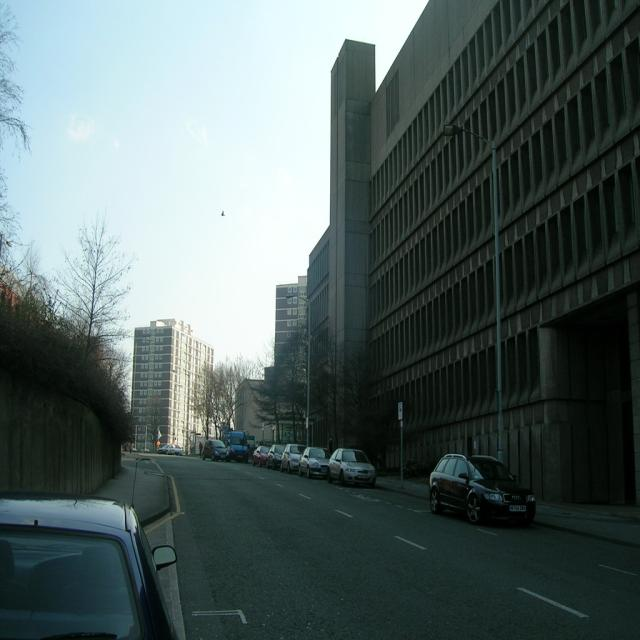car: (425, 450, 530, 526), (158, 439, 185, 457)
